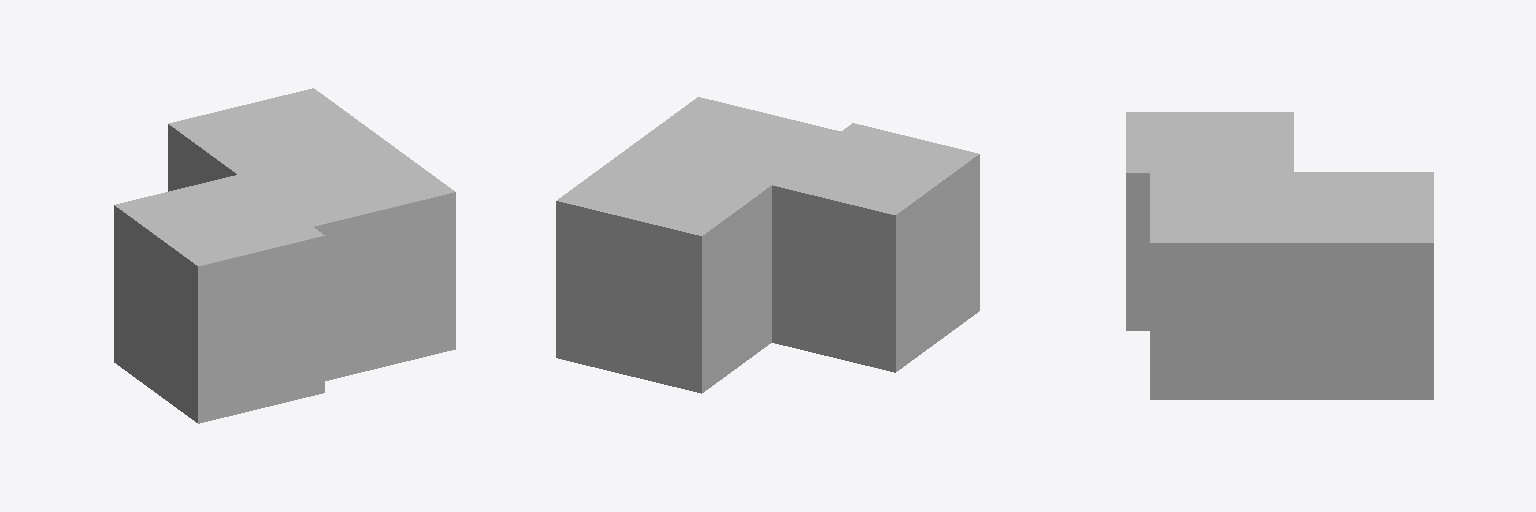
Rendered from cocinaintegralabajo2.obj.
3 renders of one model, left to right at view 1: azimuth 30°, elevation 25°; view 2: azimuth 150°, elevation 25°; view 3: azimuth 270°, elevation 25°, orthographic.
Visible parts, largest first — view 1: fridge1:fridge1:fridge2:fridge1:pCube3; view 2: fridge1:fridge1:fridge2:fridge1:pCube3; view 3: fridge1:fridge1:fridge2:fridge1:pCube3.
Boxes of the visible parts, x1=… form: fridge1:fridge1:fridge2:fridge1:pCube3: x1=114, y1=88, x2=455, y2=423; fridge1:fridge1:fridge2:fridge1:pCube3: x1=556, y1=97, x2=979, y2=393; fridge1:fridge1:fridge2:fridge1:pCube3: x1=1126, y1=112, x2=1433, y2=399.
Size of the model in its own units: 1.11 by 0.6185 by 1.1.